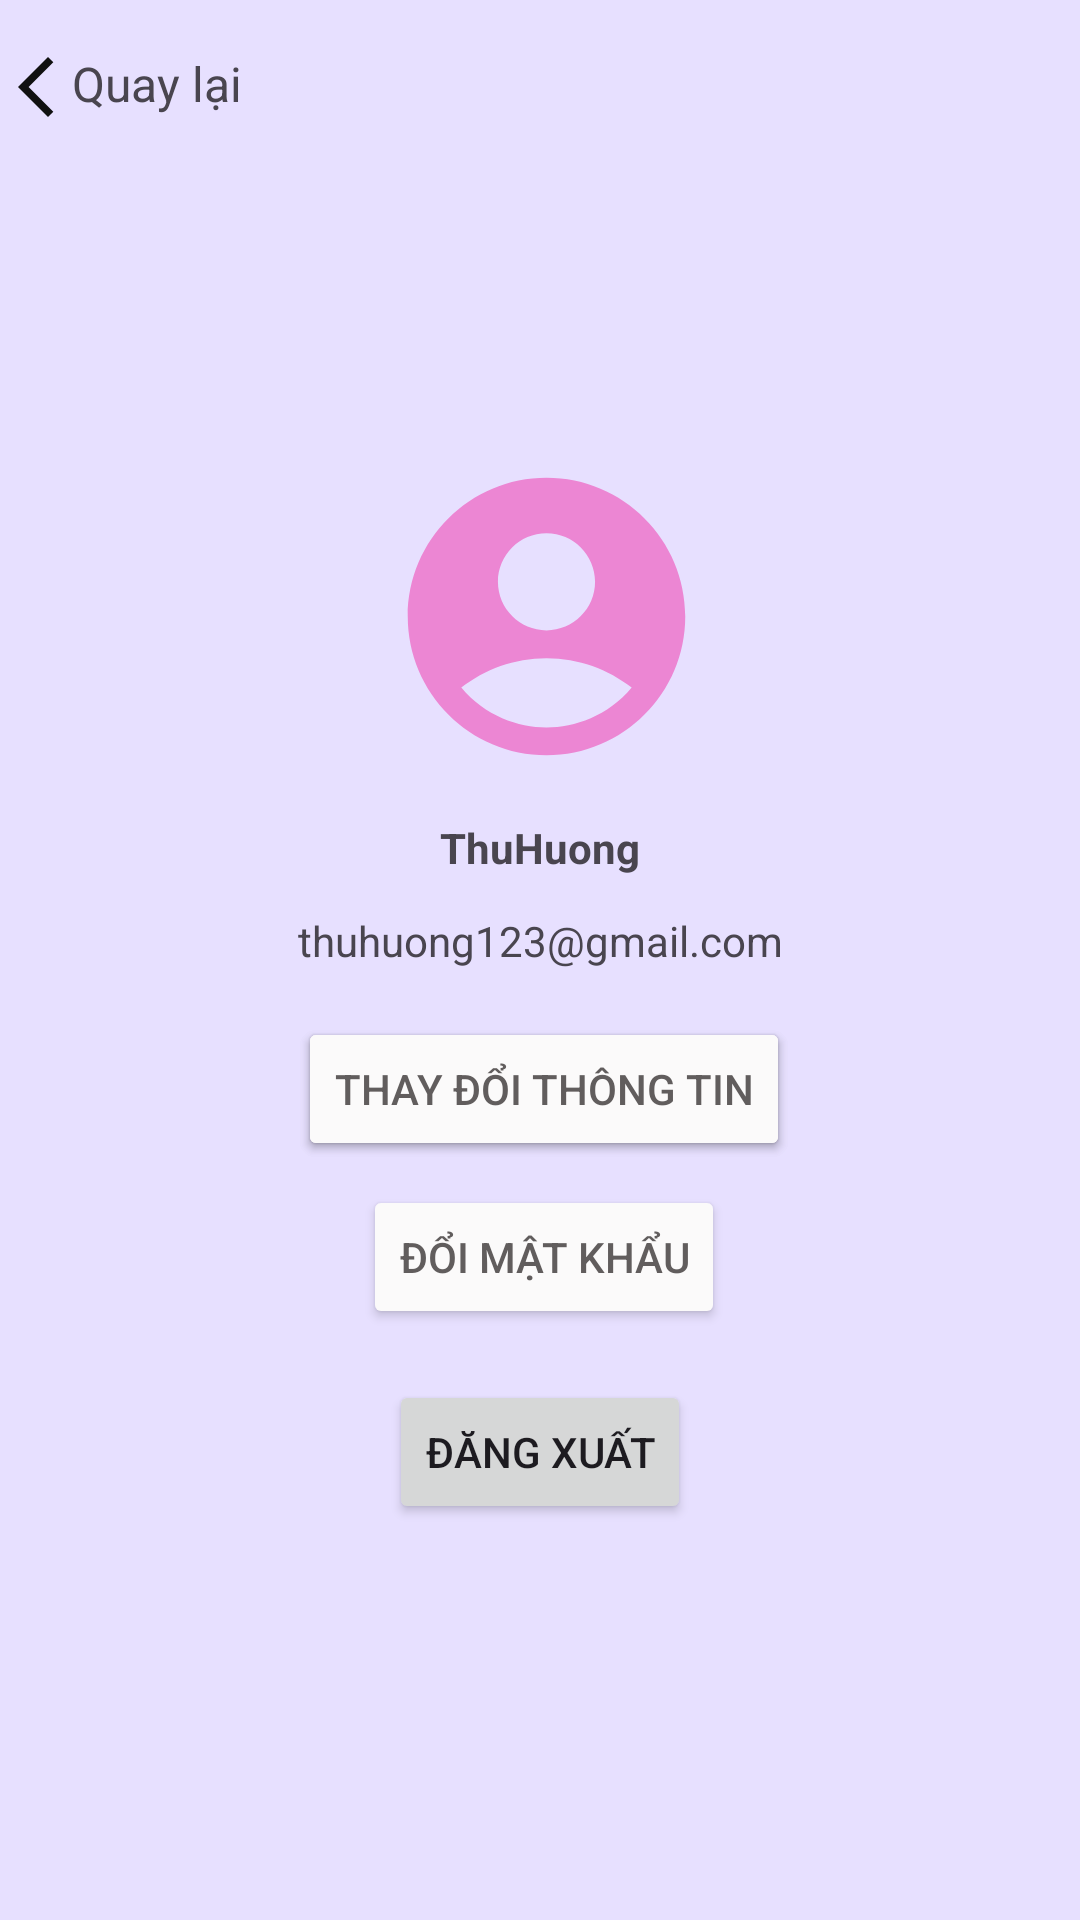

Icon bounding boxes for this 1080px x 1920px phone screenshot, format [left=x1, top=y1, right=x2, bottom=y2]:
account circle: [left=407, top=478, right=685, bottom=755]
